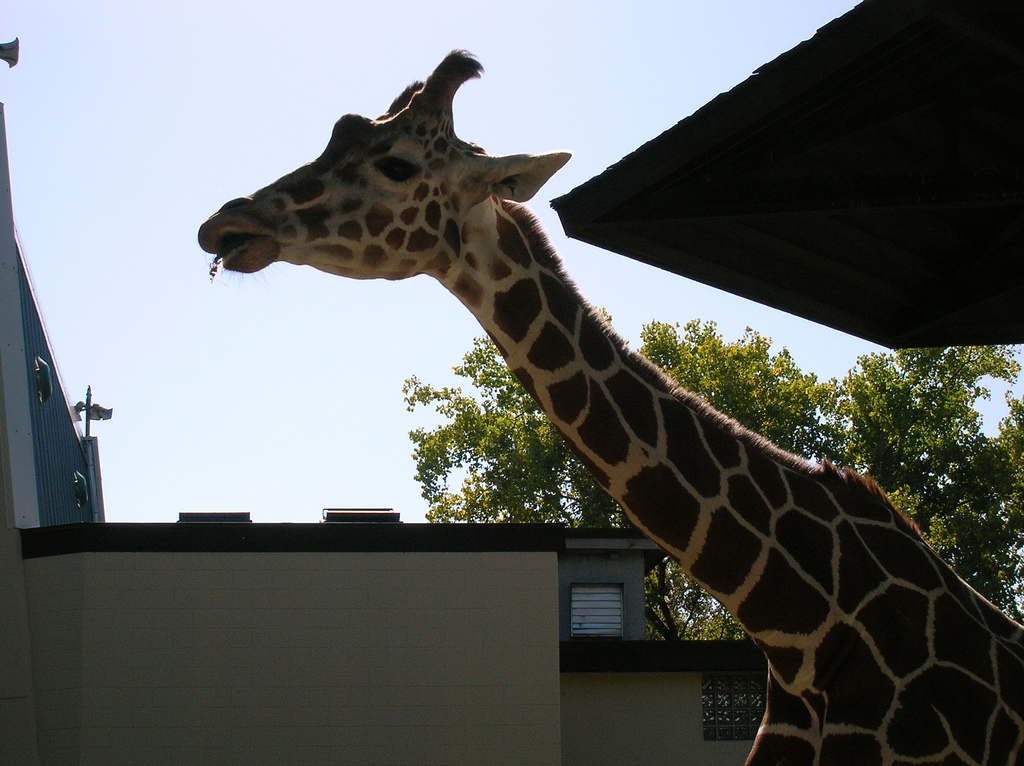giraffe: (171, 49, 967, 741)
